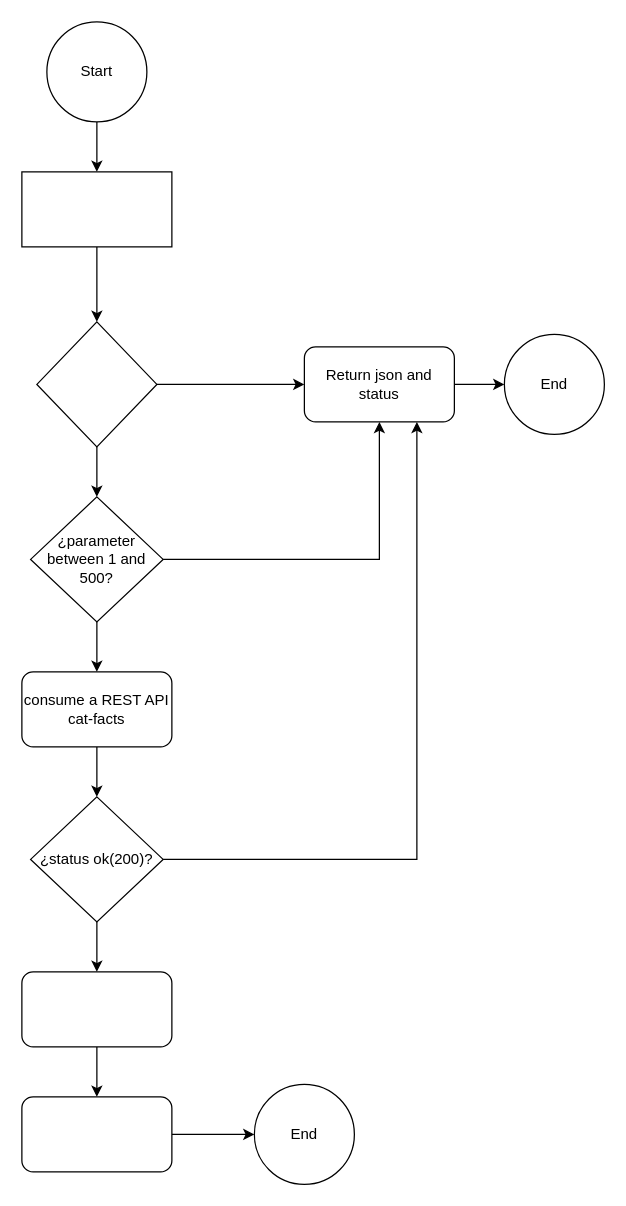
Some shapes in this 626 by 1206 pixel diagram are drawn without their labels. Each missing label, with the centre of its shape:
"Load environment variables" goes at point (96, 209).
"Return JSON whit filter records" goes at point (96, 1134).
"traverse response json array looking years" goes at point (96, 1009).
"¿parameter is numeric?" goes at point (96, 384).
